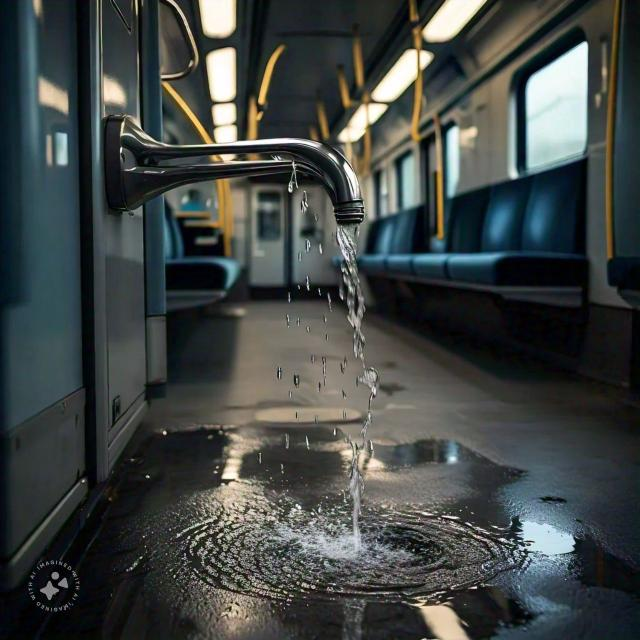Tap_Leaking: (122, 92, 510, 640)
